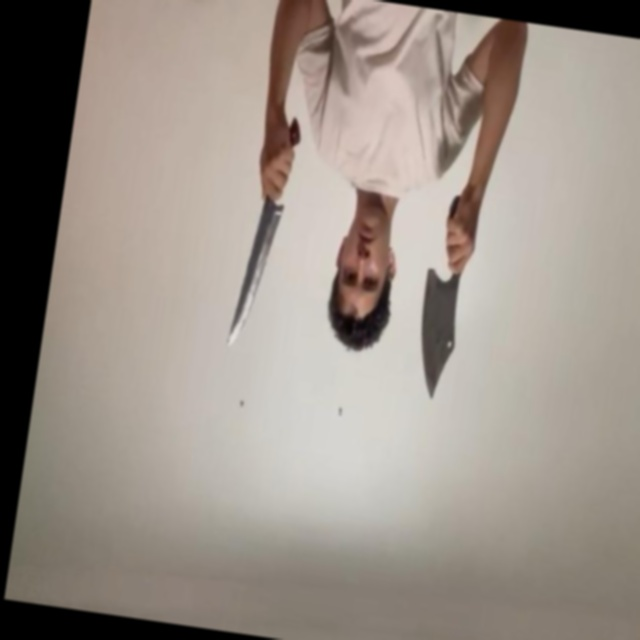Sharp-Object: (227, 203, 284, 350), (410, 269, 467, 403)
